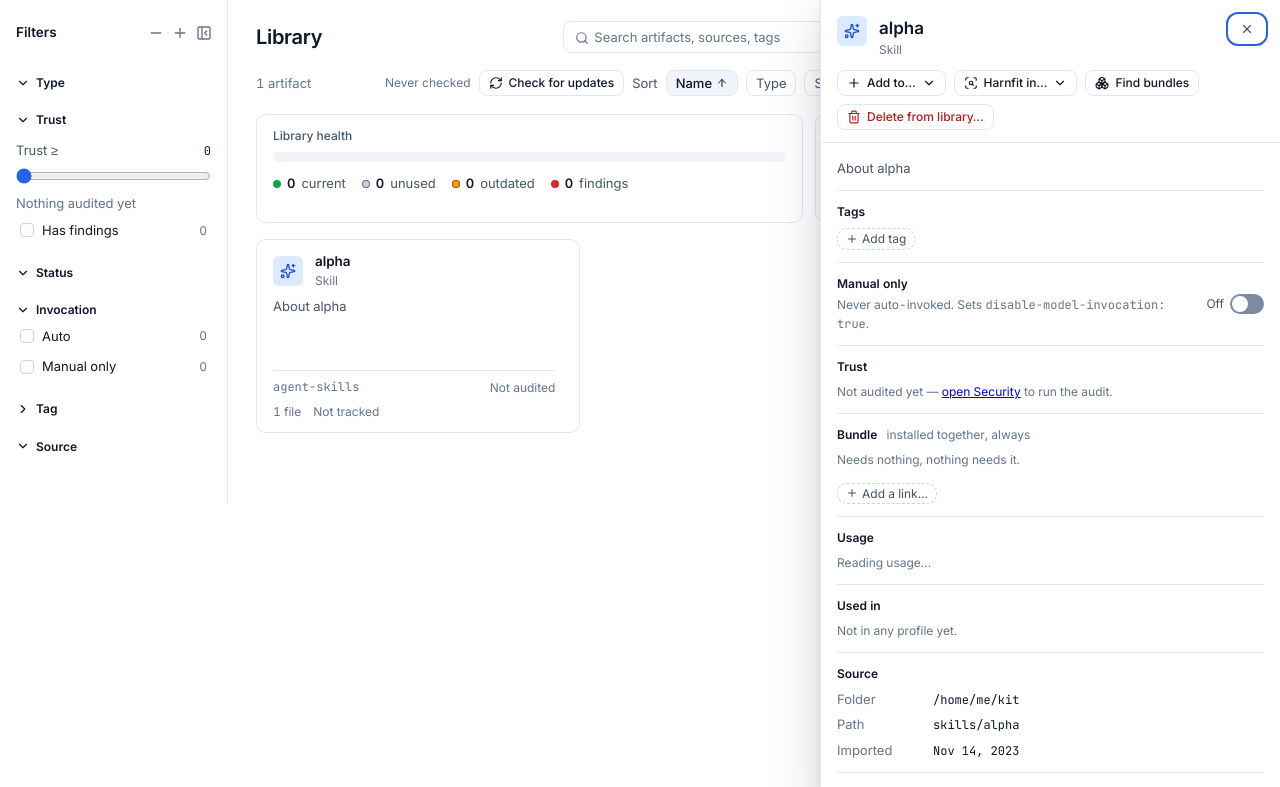
tags in the detail panel › adds an existing tag and updates the detail, the card and the filter
Click the button "Tag".
click(37, 409)  # box x1=16 y1=400 x2=58 y2=418
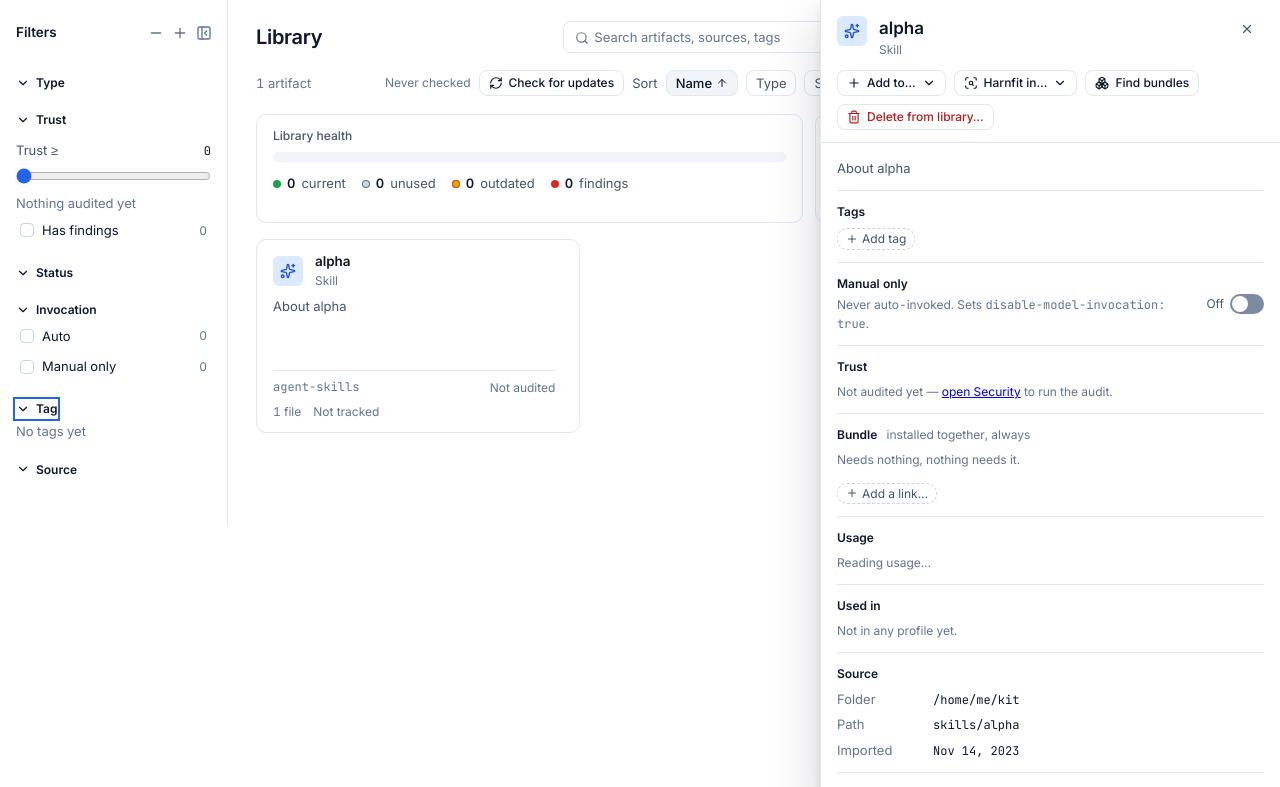
Click the button "Add tag".
click(876, 239)  # box x1=837 y1=228 x2=915 y2=250
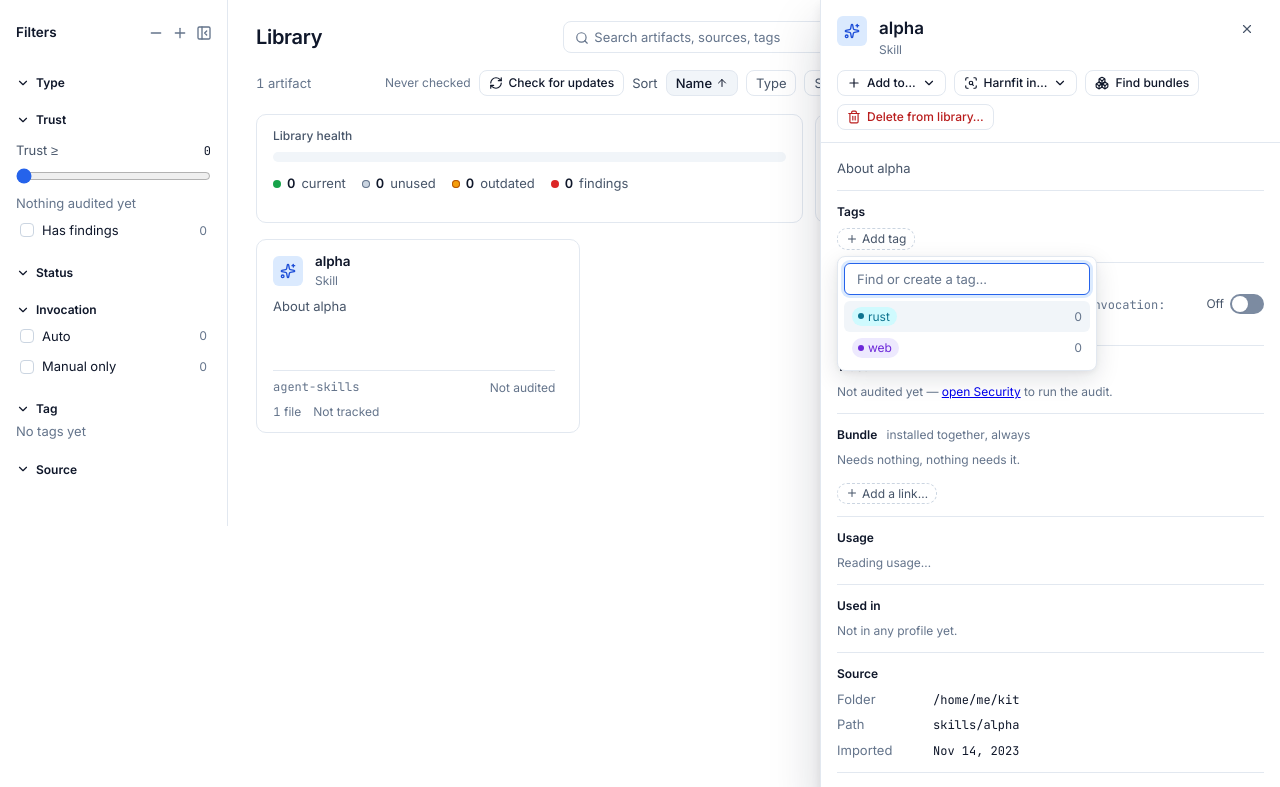
Expected: the text "rust" is shown, x1=852 y1=307 x2=897 y2=326
Click the text "web".
click(876, 348)  # box x1=852 y1=338 x2=899 y2=358
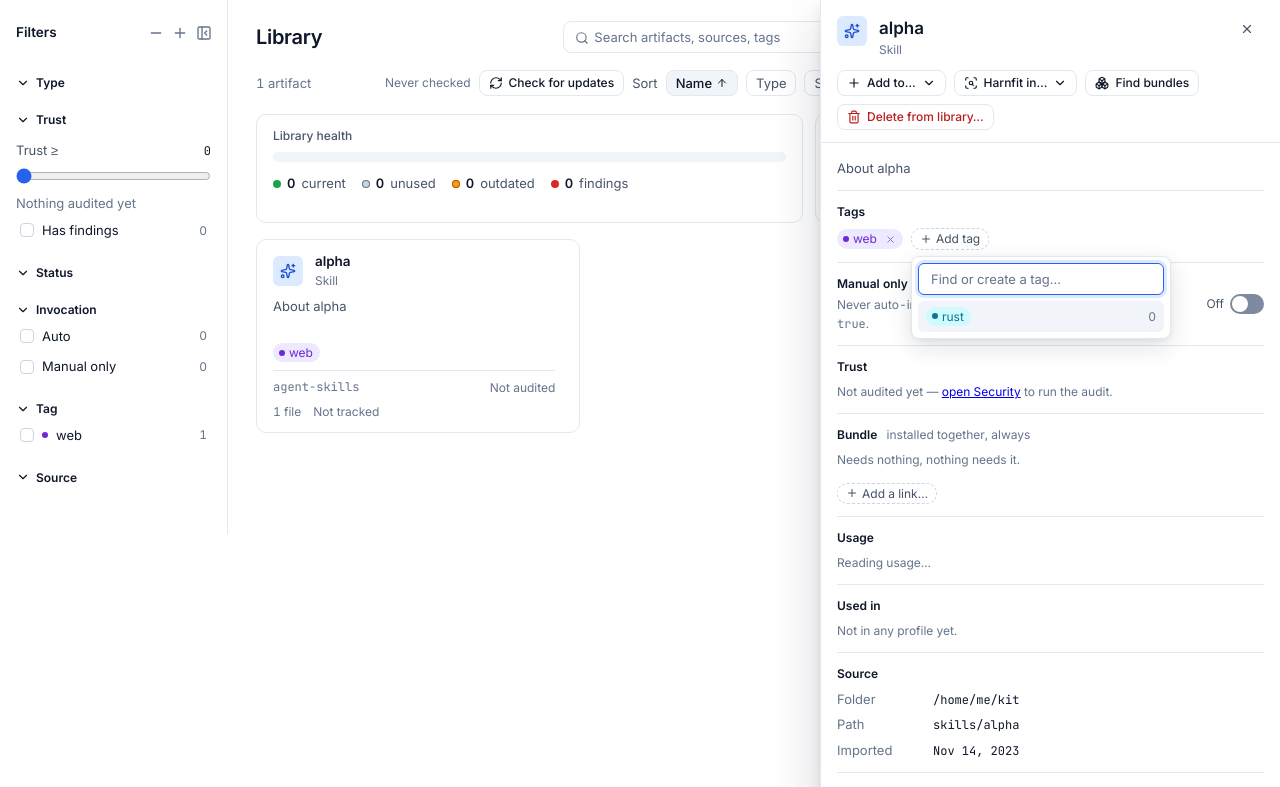
Expected: the button named "Remove tag web" is shown, x1=885 y1=234 x2=896 y2=244
